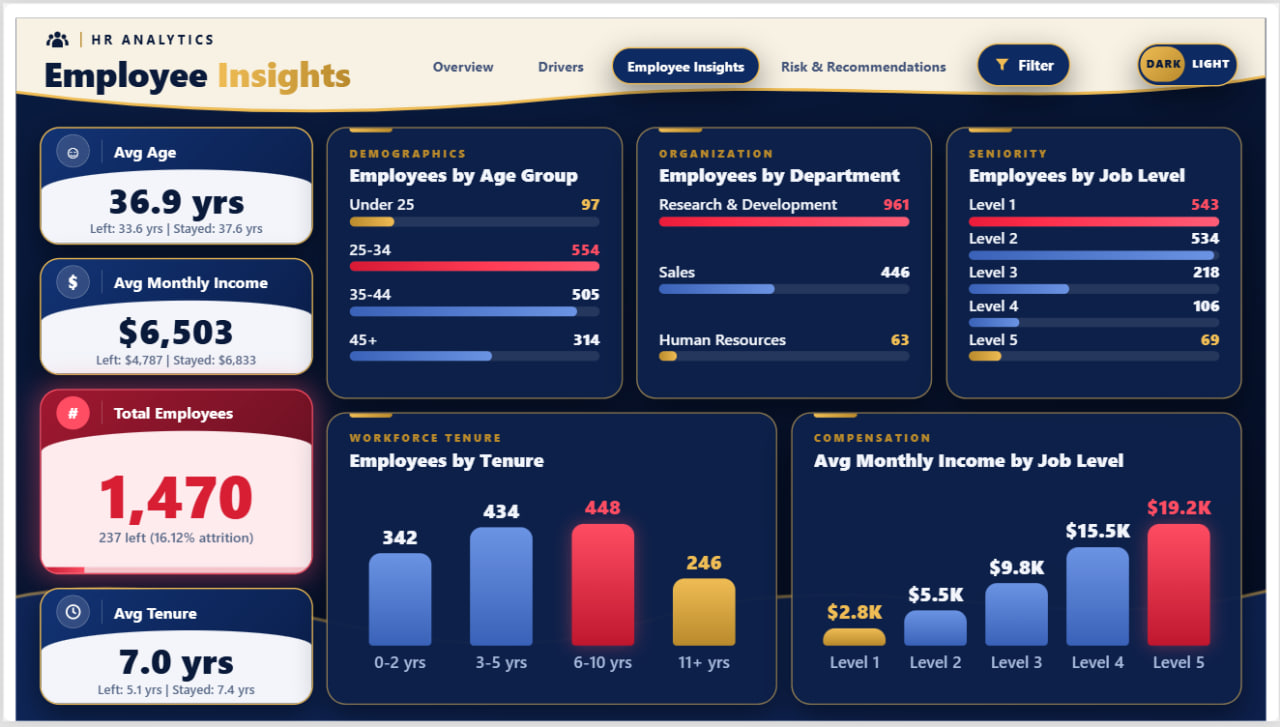

This screenshot's page, from the dashboard's own definition file:
{"tool":"powerbi","page":{"name":"Employee HTML","canvas":[1280,720],"ordinal":3},"visuals":[{"type":"htmlContent443BE3AD55E043BF878BED274D3A6855","fields":{"content":["DAX.HR Employee Insights HTML"]},"box":[0,0,1279.7,720.3],"z":0},{"type":"actionButton","box":[526.4,43.4,81.1,39.6],"z":9000},{"type":"actionButton","box":[407.5,41.5,100,40],"z":10000},{"type":"actionButton","box":[771.7,43.4,177.4,39.6],"z":11000},{"type":"actionButton","box":[39.6,26.4,358.5,71.7],"z":12000}]}

Visuals, with their boxes in screenshot pixels (x1, y1, x2, y2), scaled from the page's 1280x720 canvas onto the 1280x727 screenshot:
htmlContent443BE3AD55E043BF878BED274D3A6855 - DAX.HR Employee Insights HTML: l=0, t=0, r=1279, b=726
actionButton: l=526, t=44, r=608, b=84
actionButton: l=408, t=42, r=508, b=82
actionButton: l=772, t=44, r=949, b=84
actionButton: l=40, t=27, r=398, b=99
